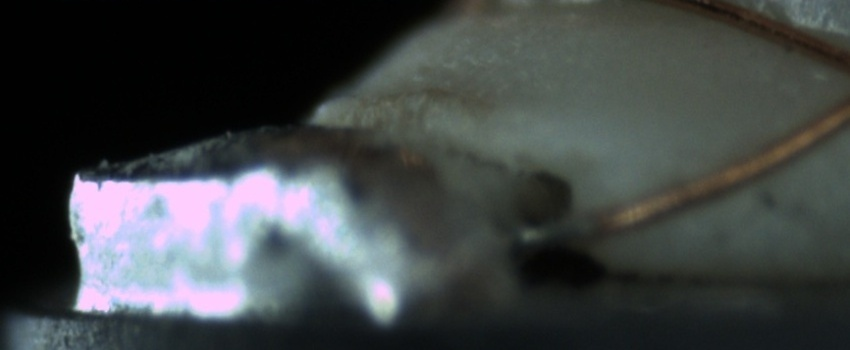TS: (518, 216, 602, 246)
